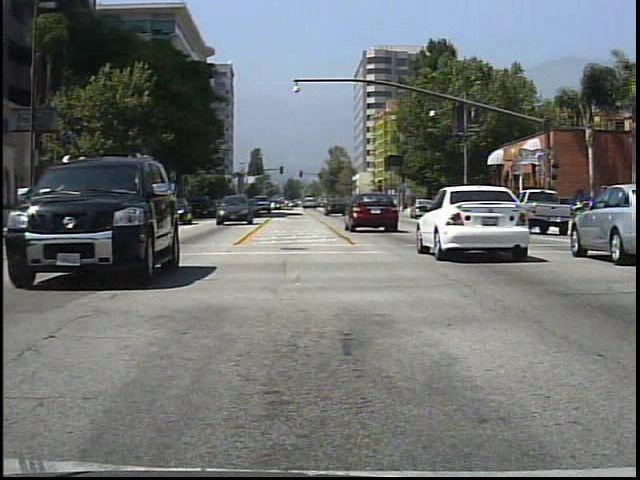person: (498, 188, 516, 224), (541, 192, 559, 228)
